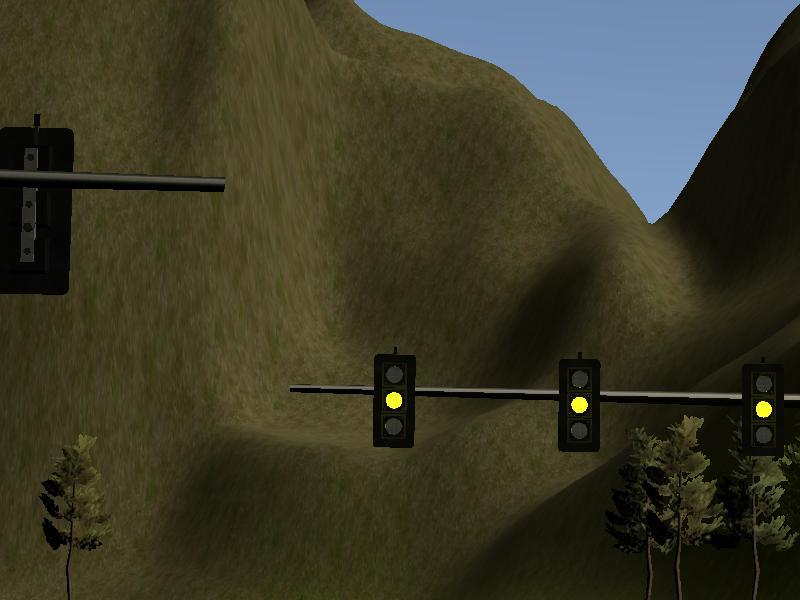Yellow: (558, 359, 600, 451), (374, 354, 415, 448), (742, 364, 784, 455)
